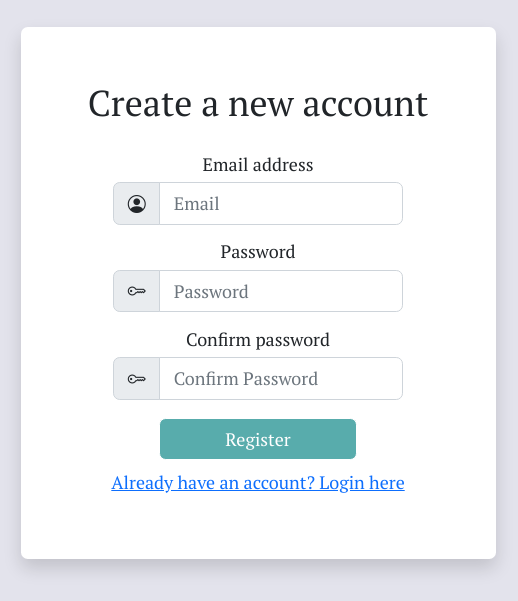
Test: AuthenticationForm › checks password length and matching when registering
Type "new@example.com" into the field labelled "Email address". click: [281, 204]
box: 159,182 -> 403,225
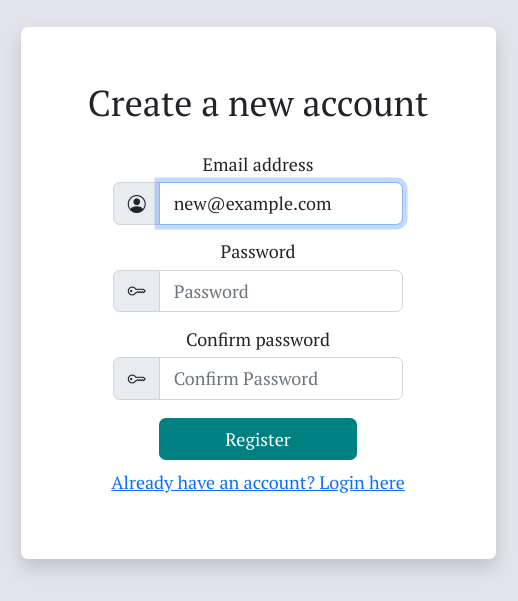
Type "short" into the password field labelled "Password". click: [281, 291]
box: 159,270 -> 403,312
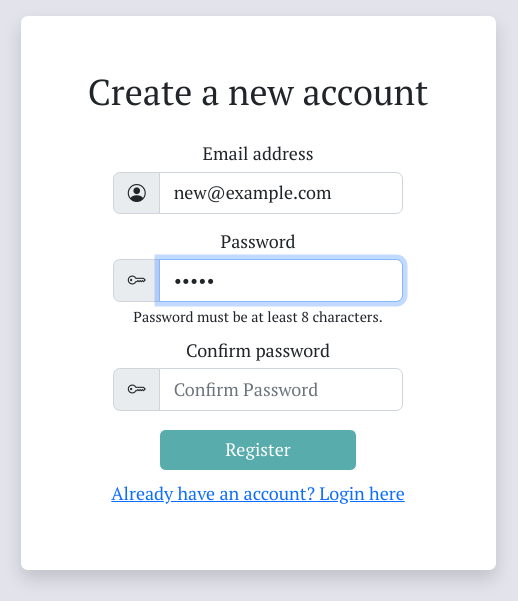
Now the text "Password must be at least 8 characters." is shown, box 113,306 -> 403,328
Now the button "register" is disabled, box 159,429 -> 357,471
Type "-but-longer" into the password field labelled "Password". click: [281, 280]
box: 159,259 -> 403,302
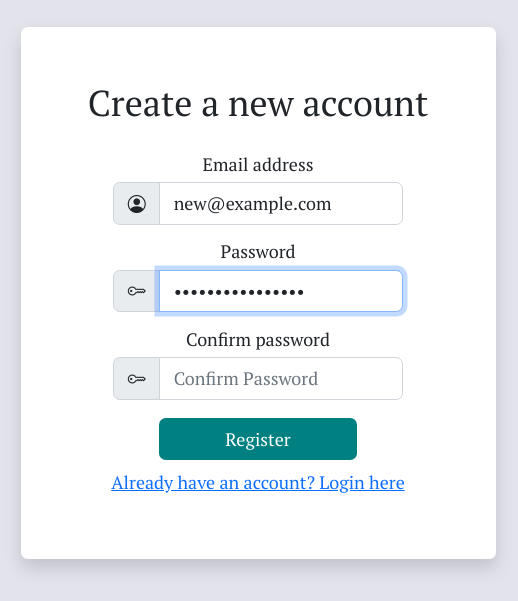
Type "different-password" into the password field labelled "Confirm password". click: [281, 379]
box: 159,357 -> 403,400
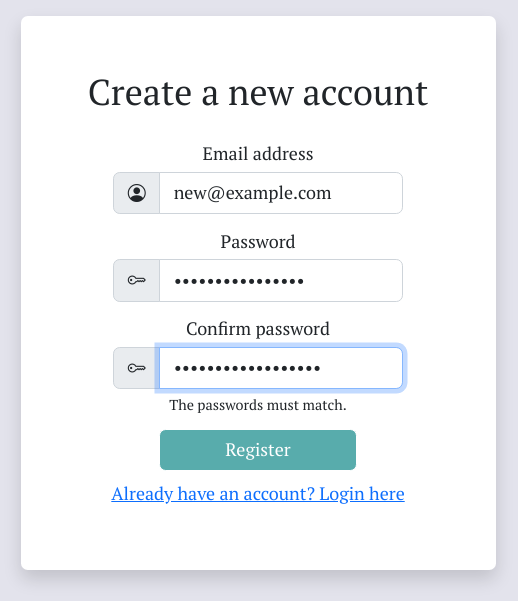
Now the text "The passwords must match." is shown, box 169,394 -> 347,414
Now the button "register" is disabled, box 159,429 -> 357,471
